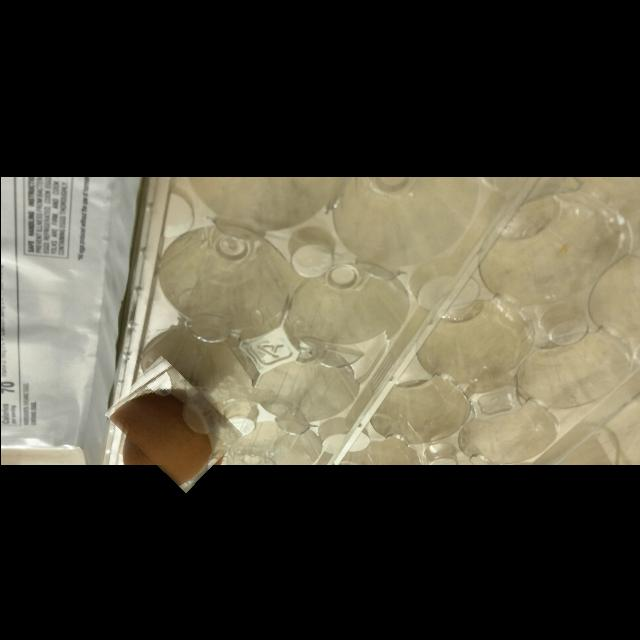Egg: (110, 368, 236, 478)
